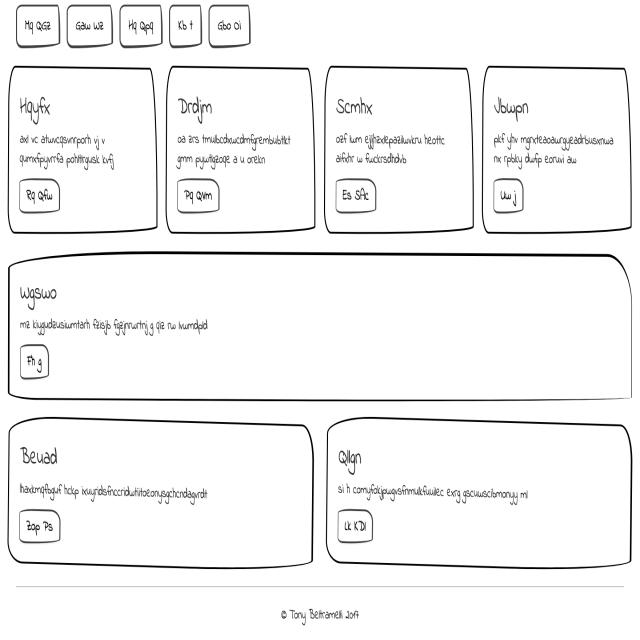Button: (14, 176, 64, 217), (173, 176, 228, 213), (15, 507, 66, 542), (333, 177, 380, 214), (18, 344, 52, 387), (335, 509, 377, 543), (494, 179, 527, 216)
Card: (3, 250, 633, 406), (7, 418, 314, 571), (323, 416, 632, 566), (325, 59, 473, 238), (7, 64, 158, 239), (483, 59, 632, 236), (165, 66, 315, 236)
Footer: (9, 576, 640, 640)
Heading 6: (16, 276, 69, 313), (13, 435, 65, 471), (332, 86, 378, 121), (489, 91, 536, 125), (172, 85, 215, 122), (332, 438, 369, 477), (15, 88, 53, 125)
Navigation Bar: (14, 4, 259, 56)
Paragraph: (13, 477, 216, 508), (332, 477, 546, 505), (17, 316, 211, 344), (15, 127, 118, 177), (489, 130, 616, 169), (172, 129, 292, 169), (334, 126, 451, 166)
